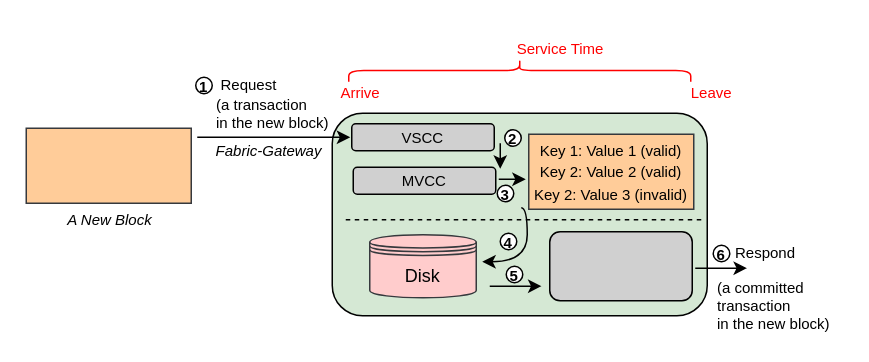
This 869x362 diagram has some shape labels left out. The shapes that lost their labels are listed below. From the top down, each one's centre as x and y in pixels, then its label:
the point at 108,165: Key 1: Value 1 Key 2: Value 2 Key 2: Value 3
the point at 620,265: Commit
